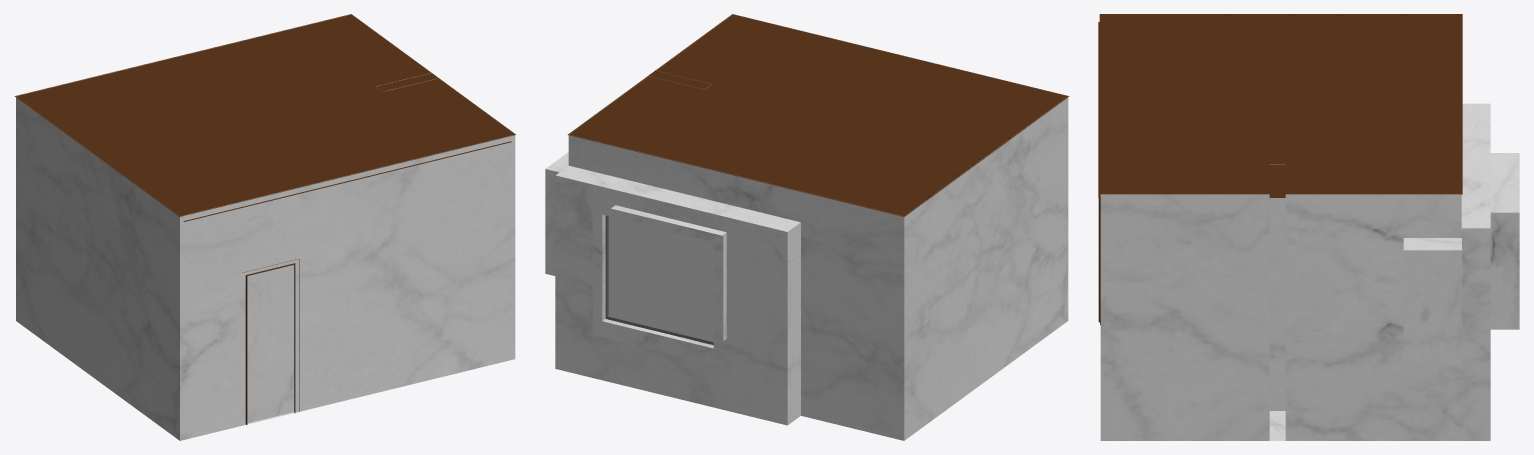
Rendered from uploads_files_4167220_bathroom.fbx.
The picture shows the model from 3 angles, left to right: view 1: azimuth 30°, elevation 25°; view 2: azimuth 150°, elevation 25°; view 3: azimuth 270°, elevation 25°; orthographic projection. The views are drawn at different scales.
Visible parts, largest first — view 1: wall, high, wall.003, mirror.003; view 2: wall, high, wall.010, wall.002; view 3: wall, high, ground, mirror.003.
Part boxes in pixels (x1,y1,x2,y2): wall: (16, 14, 515, 440); high: (15, 14, 515, 216); wall.003: (242, 259, 299, 424); mirror.003: (183, 141, 511, 221); wall: (545, 14, 1068, 440); high: (567, 14, 1069, 216); wall.010: (609, 216, 713, 340); wall.002: (605, 215, 713, 344); wall: (1100, 103, 1519, 440); high: (1099, 14, 1462, 194); ground: (1269, 411, 1285, 440); mirror.003: (1098, 22, 1285, 197).
Bounding box in the file's own units: 527 × 316 × 487.
